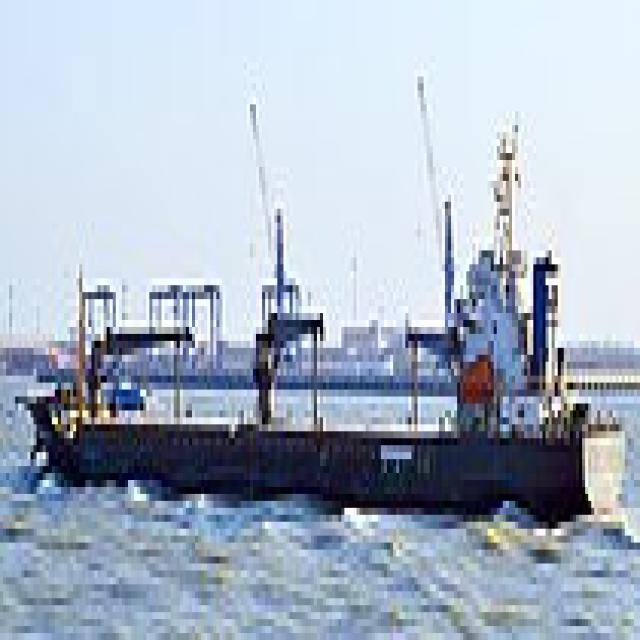Cargo: (6, 97, 625, 515)
